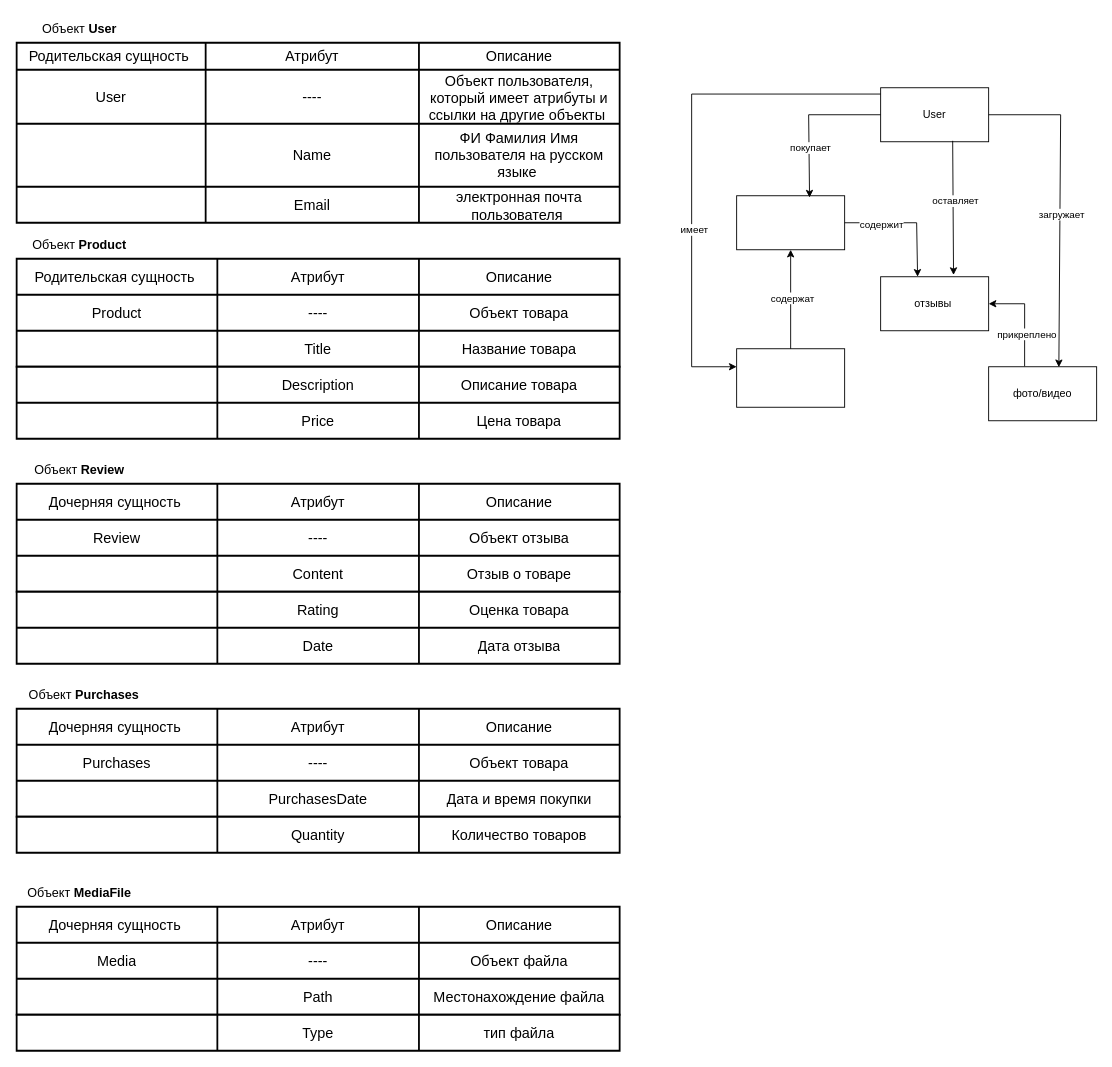
Some shapes in this 1112 by 1067 pixel diagram are drawn without their labels. The centre of each missing label's shape, as x and y in pixels:
"покупки" belongs at (790,377).
"товары" belongs at (790,222).
